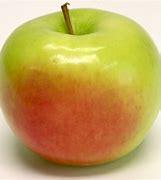apple: (0, 3, 161, 164)
